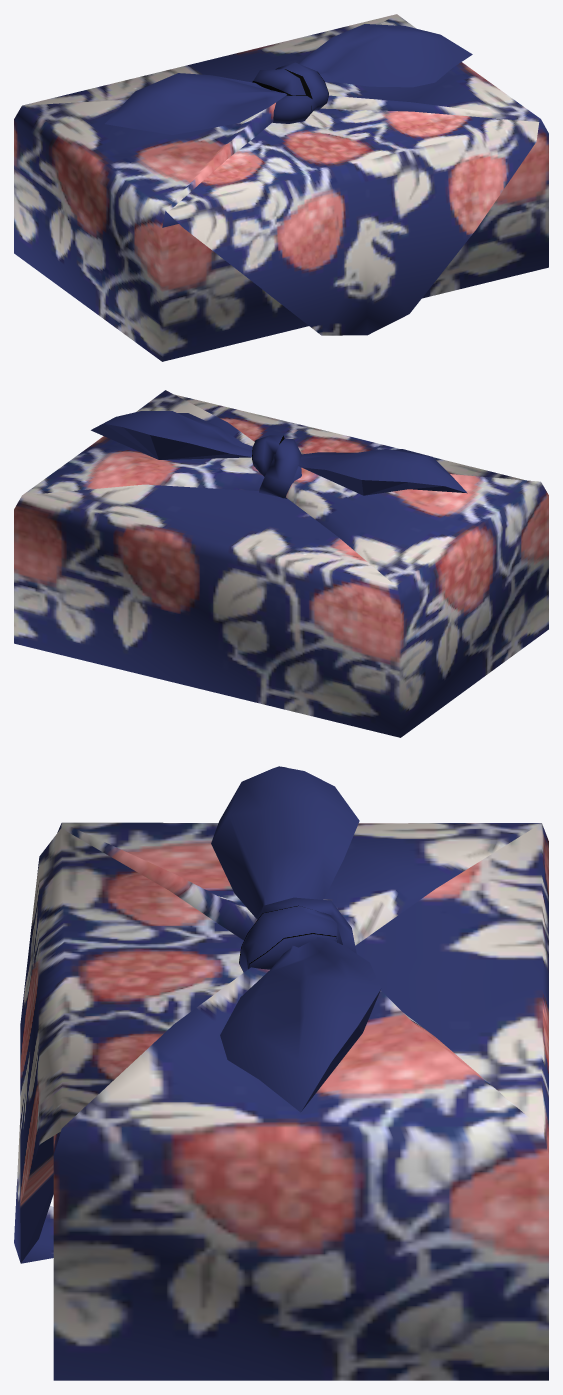
The model's file is biandang.fbx.
3 views of the same model, one above another, from view 1: azimuth 30°, elevation 25°; view 2: azimuth 150°, elevation 25°; view 3: azimuth 270°, elevation 25° (orthographic). The views are drawn at different scales.
Parts seen in each view (by area): view 1: biandang; view 2: biandang; view 3: biandang.
Boxes of the visible parts, x1,y1,x2,y2 form: biandang: (14, 14, 548, 361); biandang: (14, 390, 548, 737); biandang: (14, 766, 548, 1380).
Size of the model in its own units: 0.4006 by 0.2175 by 0.2873.
1 material, 1 textured.
